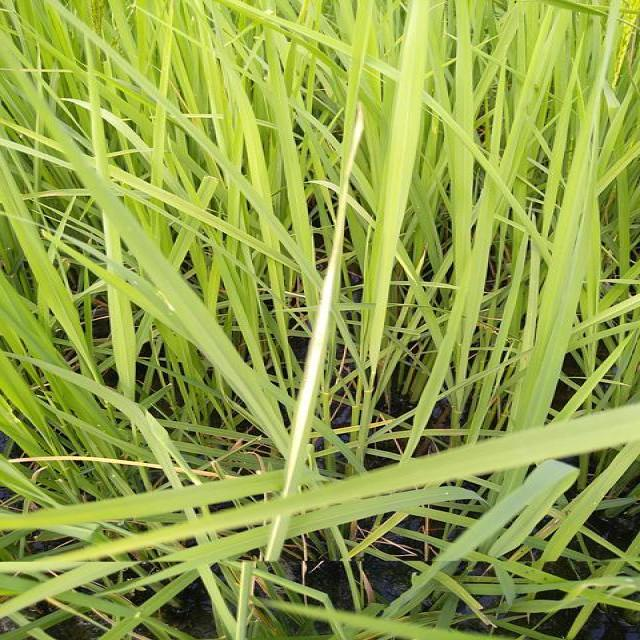Leaf Blight: (284, 102, 364, 500)
